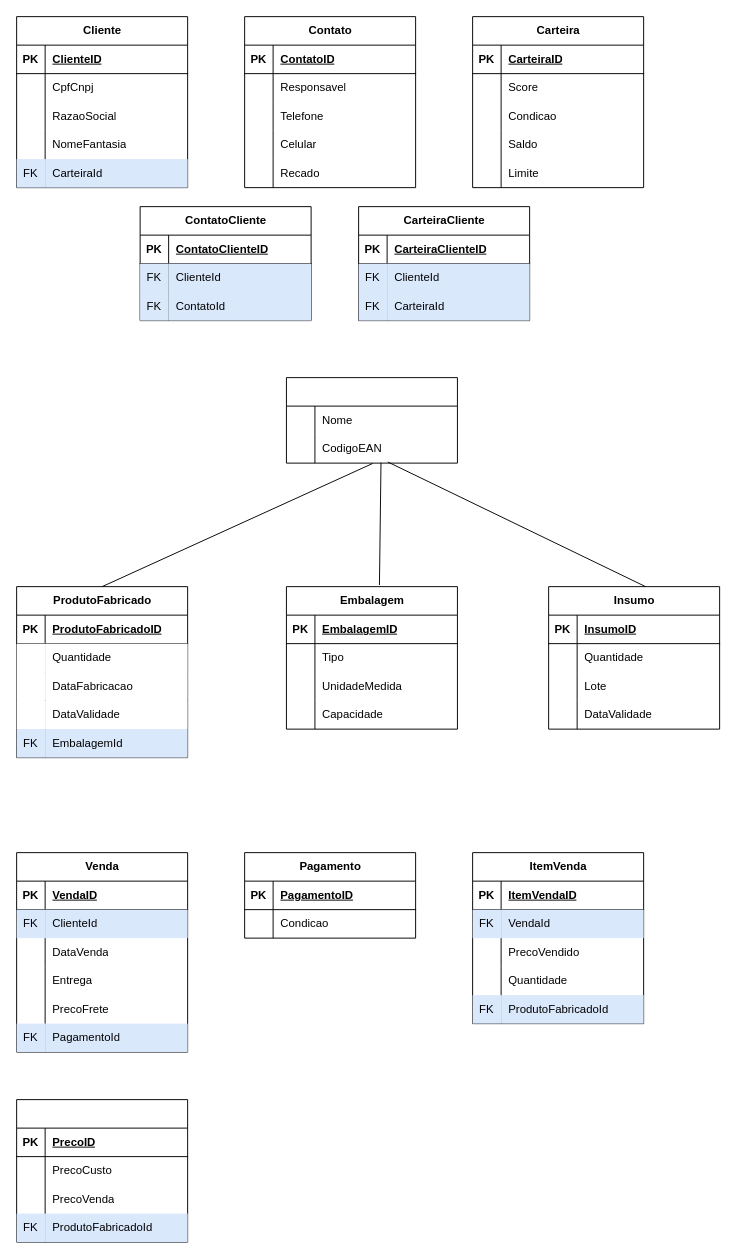
Some shapes in this 736 by 1259 pixel diagram are drawn without their labels. Each missing label, with the box of its shape:
PrecoProduto: (16, 1099, 188, 1242)
Produto: (285, 377, 457, 463)
